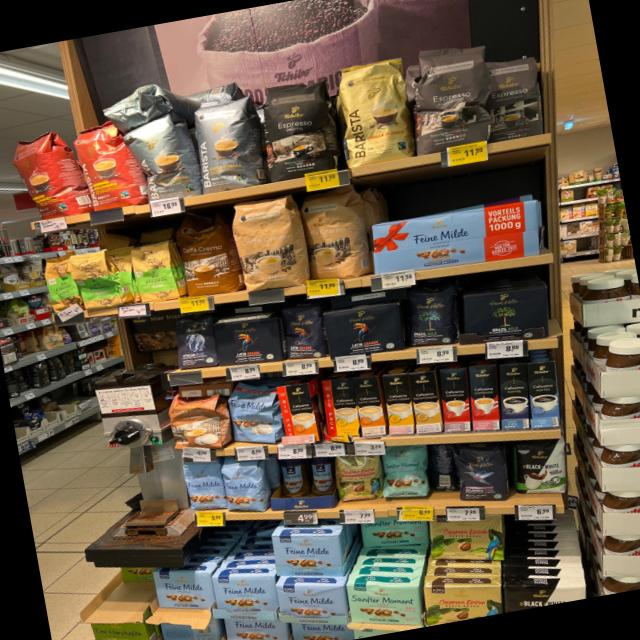AB Bohne: (174, 314, 219, 368)
Athiopien Bohne: (38, 252, 84, 315)
Athiopien Gemahlen: (66, 245, 126, 314), (128, 240, 180, 306)
BM Bohne: (404, 282, 459, 346)
BM Gemahlen: (464, 284, 550, 344)
BW Bohne: (513, 440, 568, 496)
Barista CB: (330, 55, 418, 167)
Barista CC: (187, 91, 267, 192), (120, 115, 203, 204)
Barista Kolumbien: (7, 126, 88, 223), (68, 118, 146, 214)
C Fino Bohne: (451, 444, 510, 502)
CC Mild: (228, 193, 308, 296), (295, 182, 372, 284)
CC Vollmundig: (165, 390, 229, 450)
CC Vollmundig 36 Pads: (170, 205, 242, 301)
Colombia BB Bohne: (334, 455, 382, 504)
Espresso Aromatisch: (405, 40, 497, 155), (484, 51, 550, 142)
Espresso Kraftig: (254, 70, 342, 180)
FM 36 Pads: (223, 379, 281, 445)
FM Bohne: (220, 460, 268, 513), (180, 460, 227, 511)
FM Gemahlen: (272, 531, 346, 578), (210, 571, 279, 621), (277, 581, 350, 626), (154, 569, 215, 610), (222, 617, 290, 640)
FM Instant: (278, 452, 338, 504)
Herzhatfe Mundig: (90, 621, 148, 640)
LG Bohne: (278, 303, 330, 358)
LG Gemahlen: (322, 301, 406, 358), (212, 313, 286, 367)
SM Bohne: (380, 446, 432, 500)
SM Gemahlen: (348, 581, 421, 628)
Simo CCMild: (320, 377, 360, 436)
Simo CCMild bigpack: (381, 372, 415, 434)
Simo CCVollmundig: (275, 382, 321, 445)
Simo CCVollmundig bigpack: (352, 374, 386, 437)
Simo Decaff: (407, 370, 443, 434)
Simo Es Brazil: (469, 364, 500, 430), (440, 367, 471, 431)
Simo Es Kraft: (499, 363, 529, 431)
Simo Es Vanilla: (528, 360, 560, 427)
